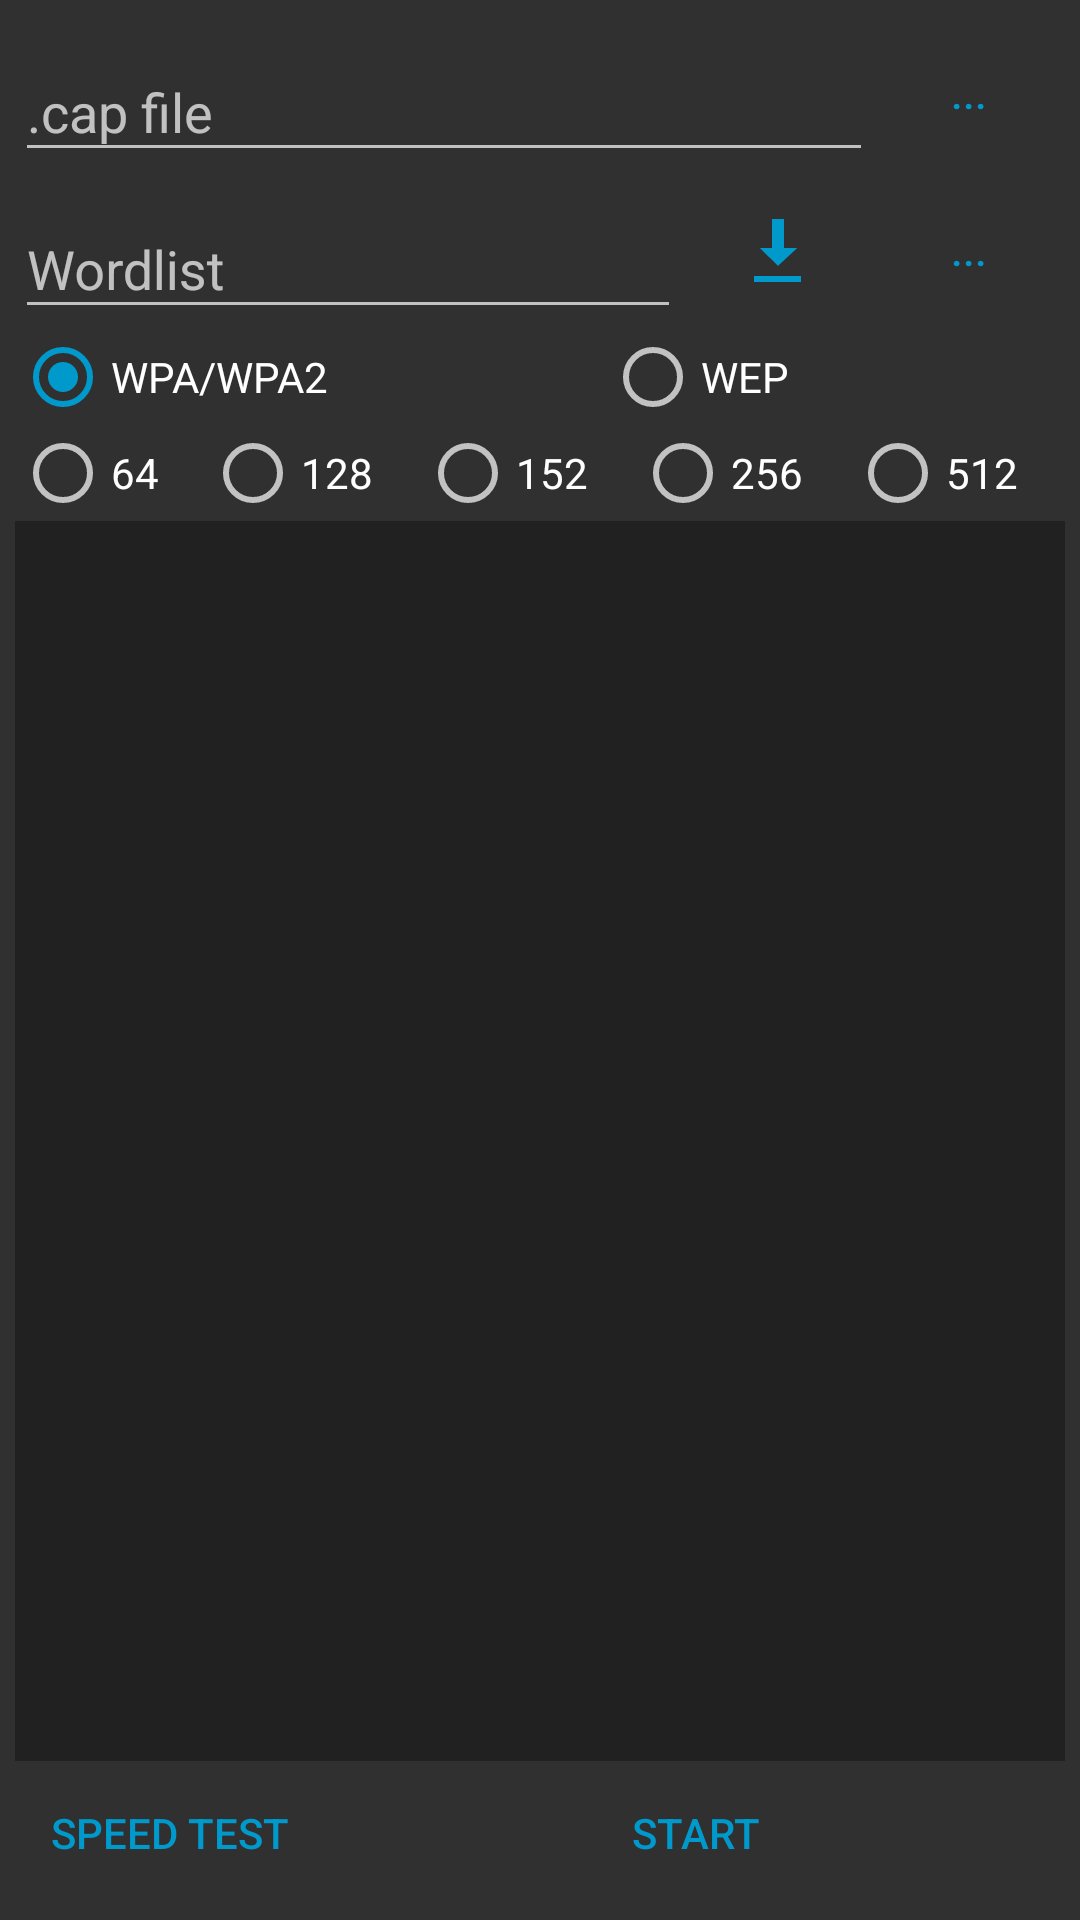

Icons on this 1080x1920 Android screen, each with the point to tap as (x=x, y=y):
download: (x=777, y=250)
